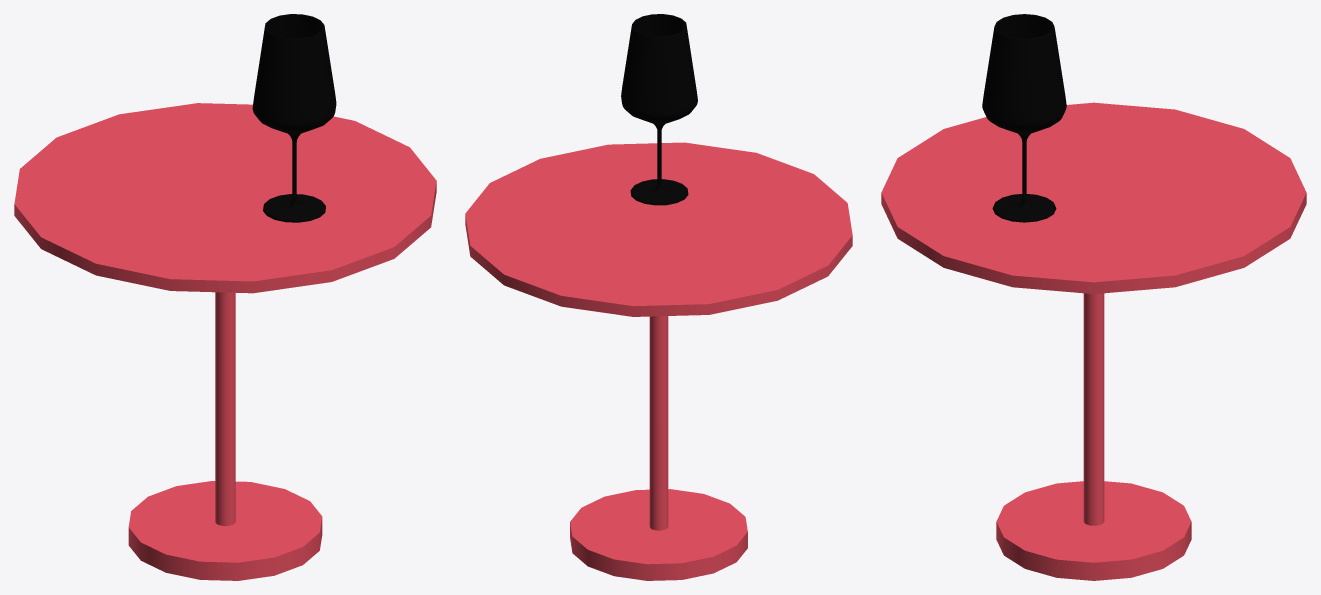
The model's file is Table_Pool.fbx.
The picture shows the model from 3 angles, left to right: view 1: azimuth 30°, elevation 25°; view 2: azimuth 150°, elevation 25°; view 3: azimuth 270°, elevation 25°; orthographic projection. The views are drawn at different scales.
Parts seen in each view (by area): view 1: Table_Pool, Cap; view 2: Table_Pool, Cap; view 3: Table_Pool, Cap.
Part boxes in pixels (box(x1,y1,x2,y2)): Table_Pool: box(14, 103, 436, 580); Cap: box(252, 14, 336, 222); Table_Pool: box(465, 142, 852, 580); Cap: box(621, 14, 697, 205); Table_Pool: box(881, 102, 1306, 580); Cap: box(982, 14, 1066, 222).
Size of the model in its own units: 41.67 by 57.31 by 41.67.
